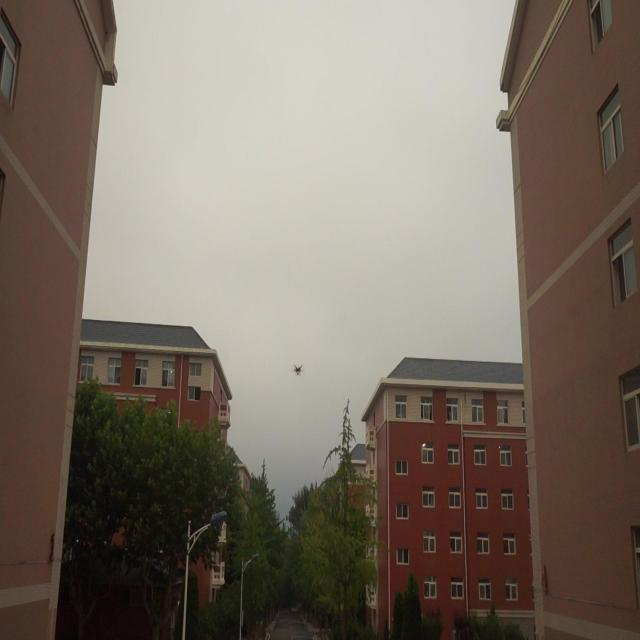drone: (292, 361, 304, 376)
